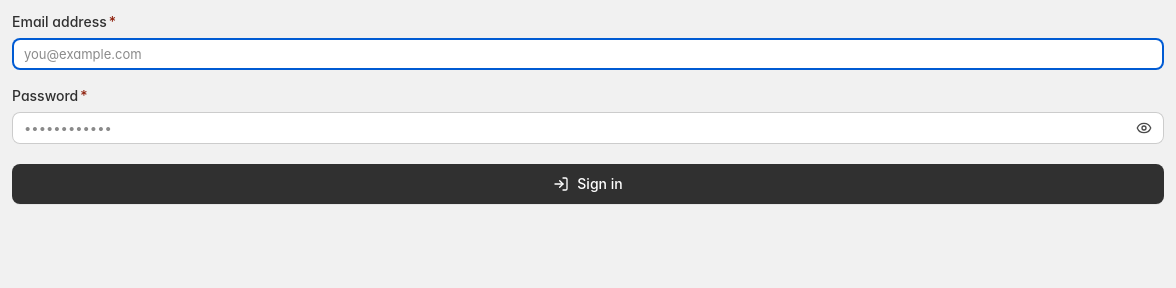
Test: LoginForm › shows the server's message for bad credentials without narrowing it
Type "ops@example.com" into the field labelled "Email address*".
click(588, 54); type("ops@example.com")  # box [12,38,1164,70]
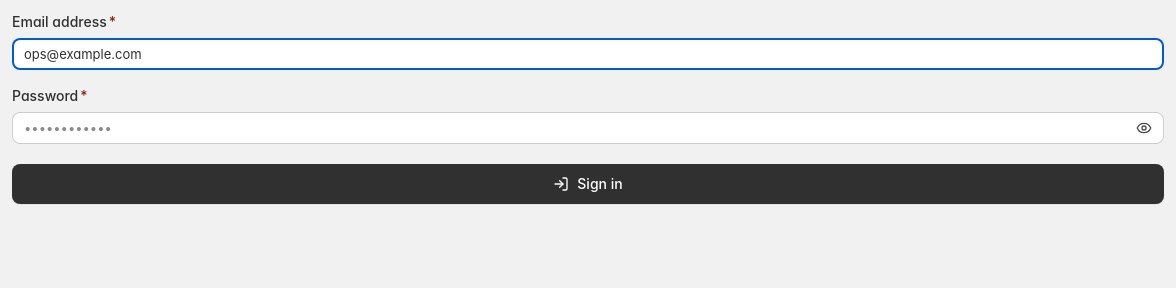
Type "wrong" into the password field labelled "Password*".
click(588, 128); type("wrong")  # box [12,112,1164,144]
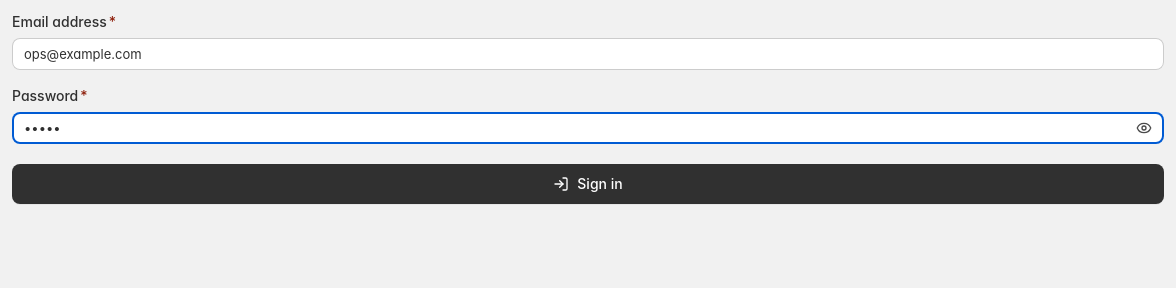
Click the button "Sign in".
click(588, 184)  # box [12,164,1164,204]
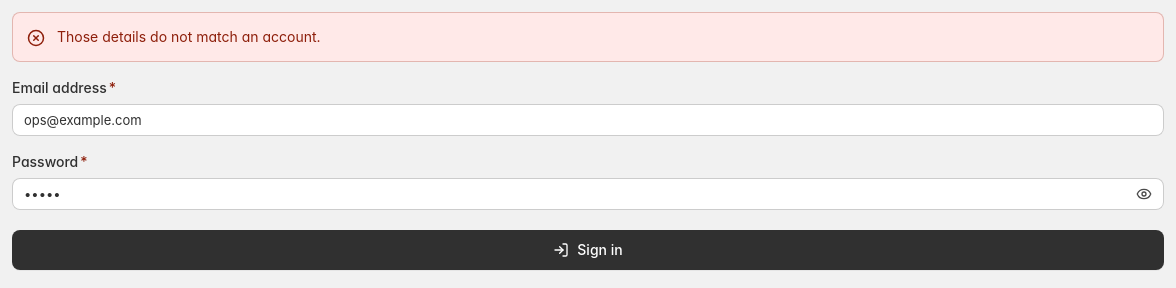
expect the text "Those details do not match an account." is shown: met, box [57,28,320,45]
